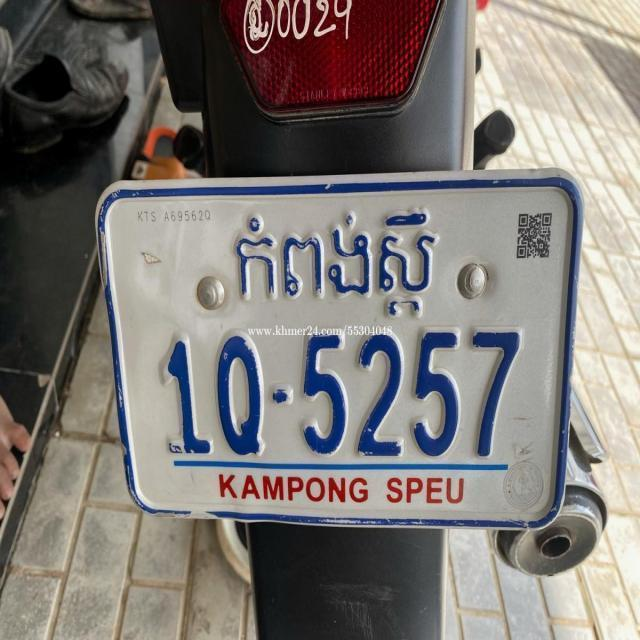Kampong_Speu: (225, 206, 446, 322)
